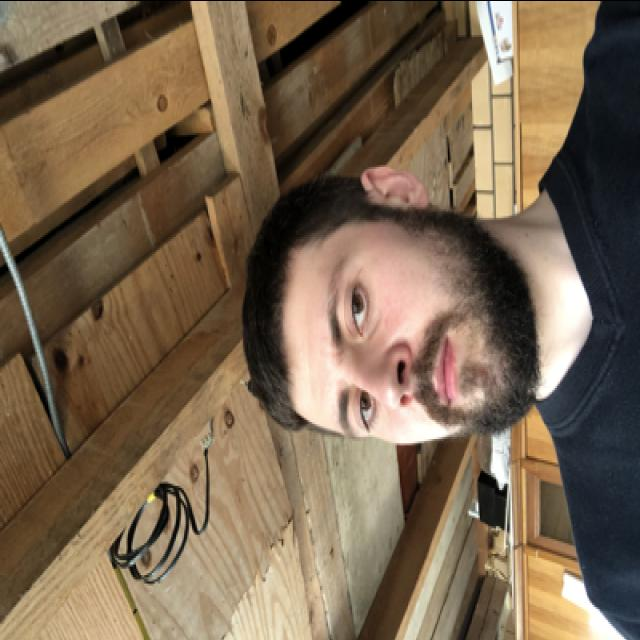without_mask: (310, 232, 540, 440)
